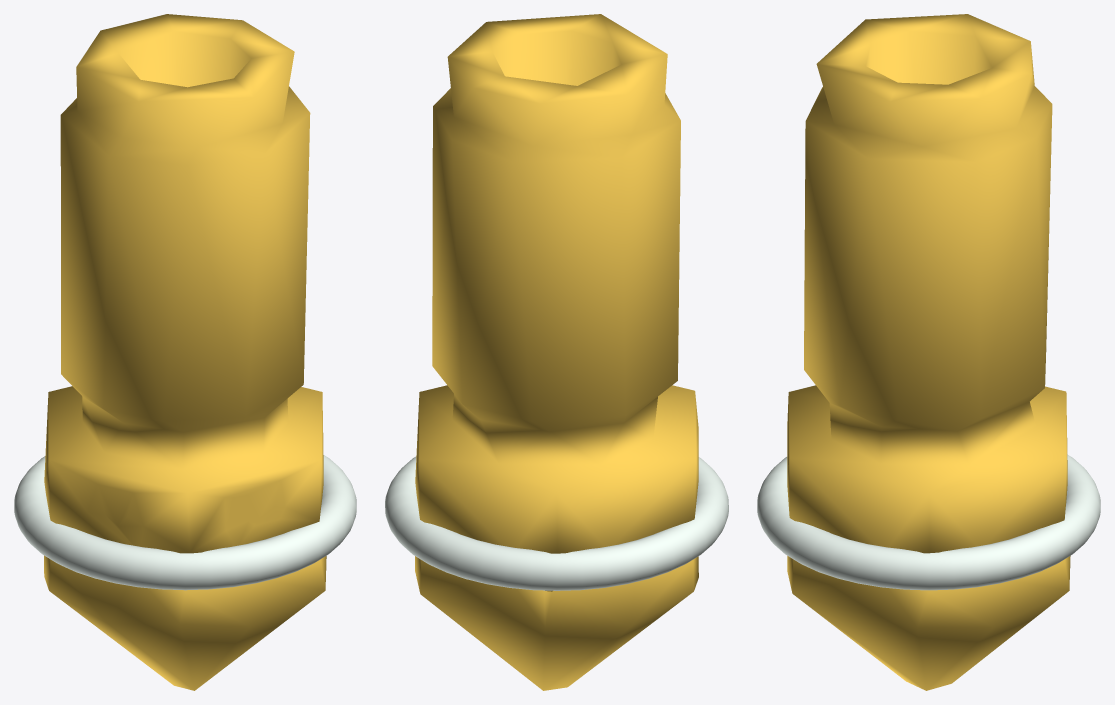
Rendered from Soplo.fbx.
The picture shows the model from 3 angles, left to right: view 1: azimuth 30°, elevation 25°; view 2: azimuth 150°, elevation 25°; view 3: azimuth 270°, elevation 25°; orthographic projection.
Visible parts, largest first — view 1: Extruder left.001; view 2: Extruder left.001; view 3: Extruder left.001.
Boxes of the visible parts, x1=… form: Extruder left.001: x1=14, y1=14, x2=356, y2=690; Extruder left.001: x1=385, y1=14, x2=728, y2=690; Extruder left.001: x1=757, y1=14, x2=1100, y2=690.
Size of the model in its own units: 0.85 by 1.7 by 0.8476.
